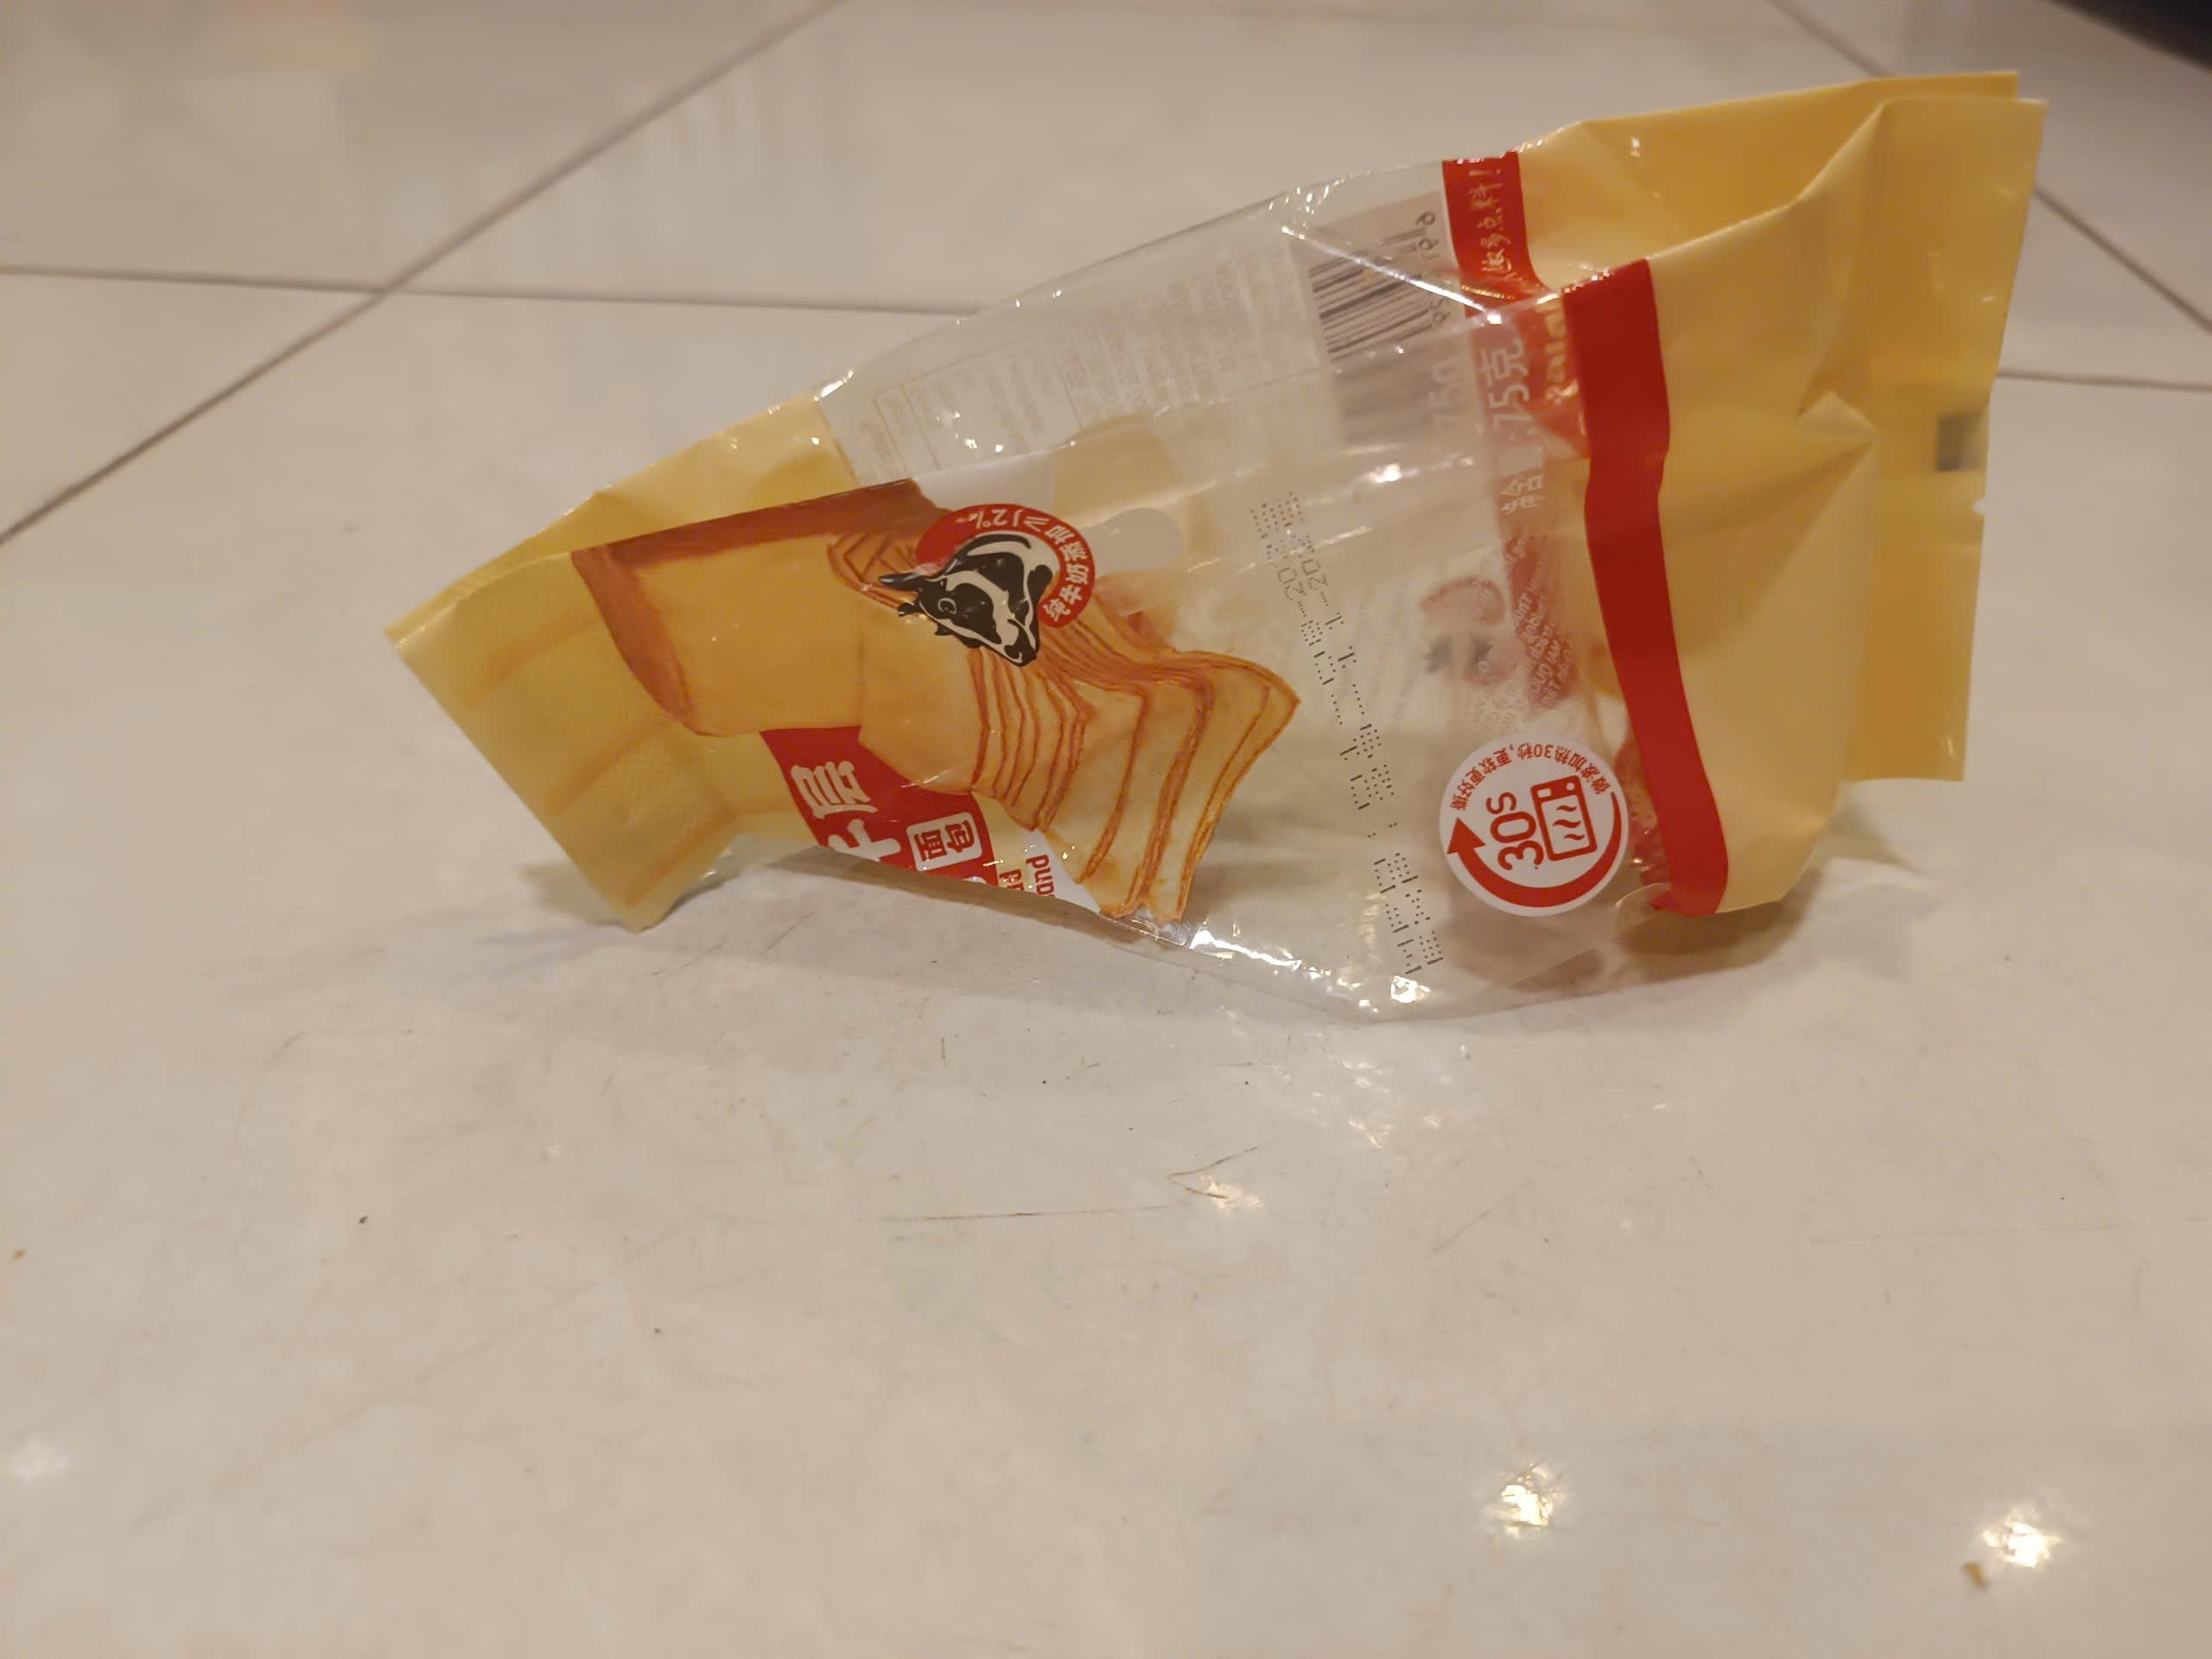Vo co: (378, 73, 2034, 1000)
